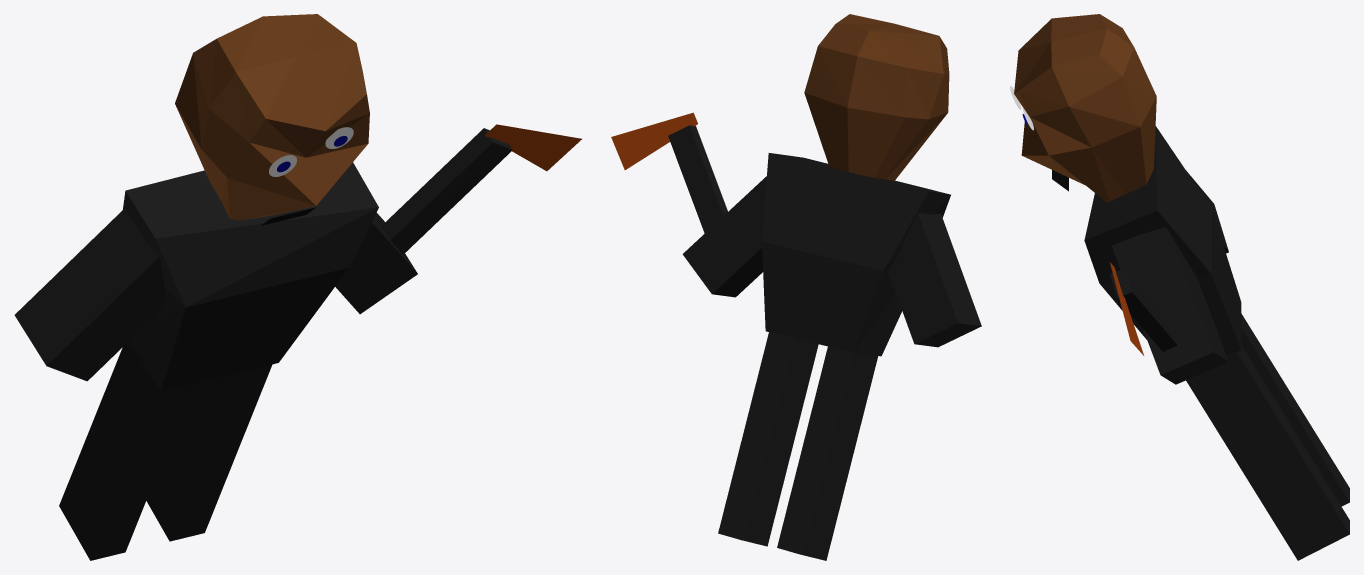
The model's file is axeman1d.obj.
The picture shows the model from 3 angles, left to right: view 1: azimuth 30°, elevation 25°; view 2: azimuth 150°, elevation 25°; view 3: azimuth 270°, elevation 25°; orthographic projection. The views are drawn at different scales.
Visible parts, largest first — view 1: Cube.001, Cube, Cube.004, Cube.003, Cube.005, Cube.007, Cube.002, Plane.001; view 2: Cube.001, Cube, Cube.004, Cube.005, Cube.003, Cube.002, Cube.007, Plane.001; view 3: Cube, Cube.005, Cube.001, Cube.002, Cube.004, Cube.007, Plane.001.
Part boxes in pixels (x1,y1,x2,y2): Cube.001: (123,162,378,391); Cube: (175,14,369,220); Cube.004: (59,341,192,560); Cube.003: (14,208,165,381); Cube.005: (146,364,272,541); Cube.007: (381,128,512,254); Cube.002: (335,212,417,314); Plane.001: (485,124,581,171); Cube.001: (762,153,950,356); Cube: (804,14,949,180); Cube.004: (777,346,878,560); Cube.005: (718,332,818,546); Cube.003: (888,212,981,347); Cube.002: (682,176,766,297); Cube.007: (668,125,727,233); Plane.001: (611,112,697,169); Cube: (1014,14,1156,202); Cube.005: (1186,345,1349,560); Cube.001: (1084,126,1241,355); Cube.002: (1111,227,1228,384); Cube.004: (1241,313,1349,506); Cube.007: (1110,268,1177,351); Plane.001: (1110,262,1143,355).
Bounding box in the file's own units: 5.1 × 5.79 × 3.5.
